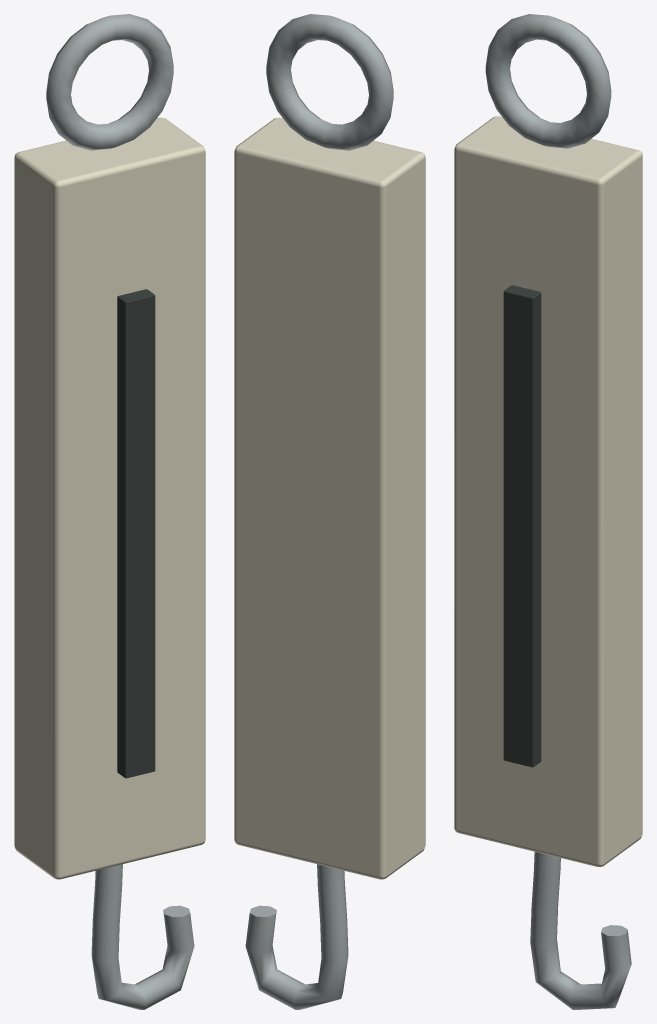
File: research-and-crafting-progression-spring-scale-9dce97b5__2855.glb
3 views of the same model, side by side, from view 1: azimuth 30°, elevation 25°; view 2: azimuth 150°, elevation 25°; view 3: azimuth 330°, elevation 25° (orthographic).
Visible parts, largest first — view 1: spring-scale; view 2: spring-scale; view 3: spring-scale.
Part boxes in pixels (<box>): spring-scale: <box>14,14,205,1009</box>; spring-scale: <box>234,14,425,1009</box>; spring-scale: <box>454,14,642,1009</box>.
Bounding box in the file's own units: 0.0523 × 0.3152 × 0.03.
